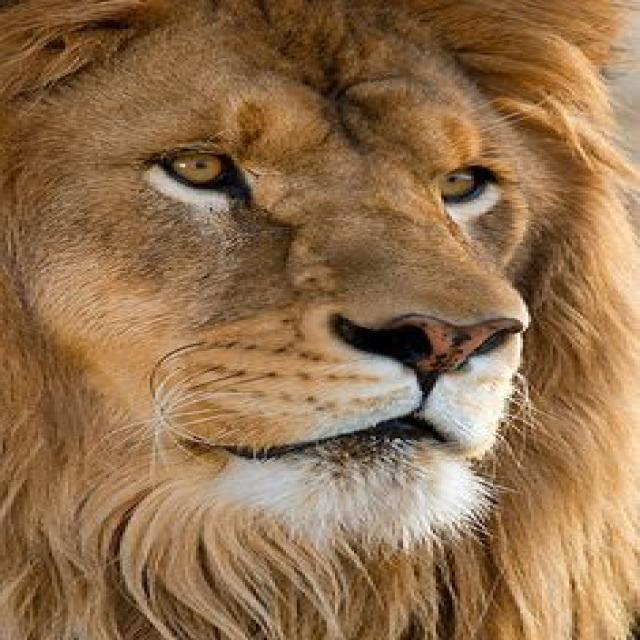lions: (0, 0, 640, 620)
